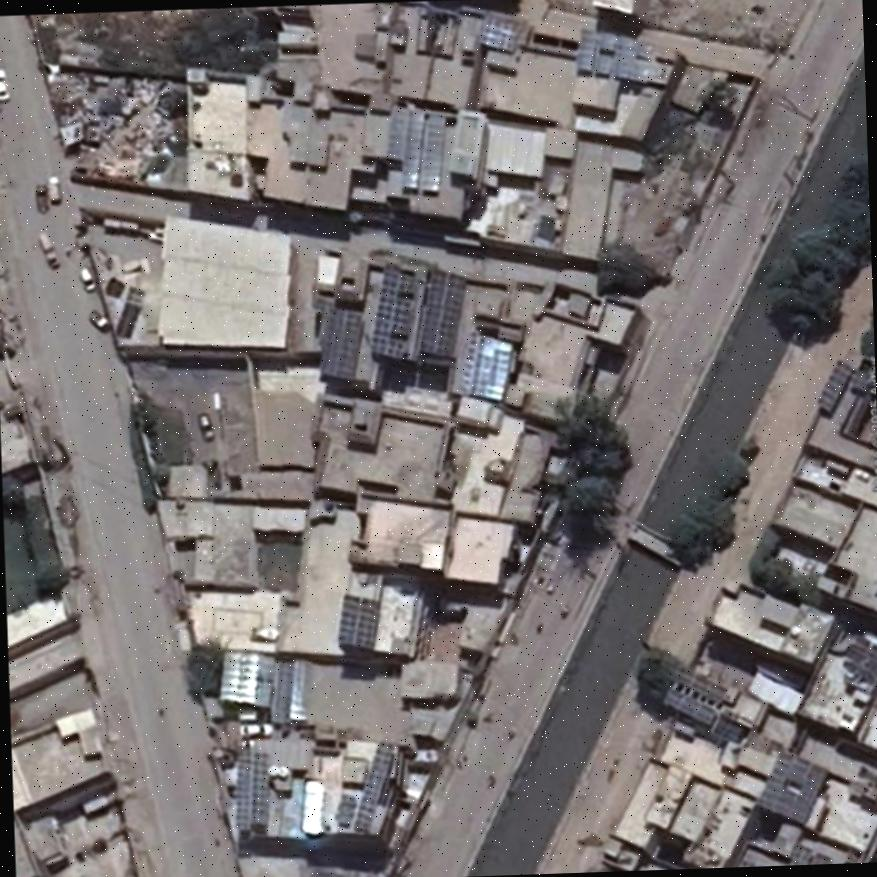Solarpanel: (756, 747, 825, 822), (367, 262, 415, 357), (418, 268, 465, 357), (460, 337, 512, 398), (321, 307, 359, 377), (357, 749, 389, 832), (235, 751, 266, 830), (338, 593, 376, 649), (479, 14, 518, 53)
